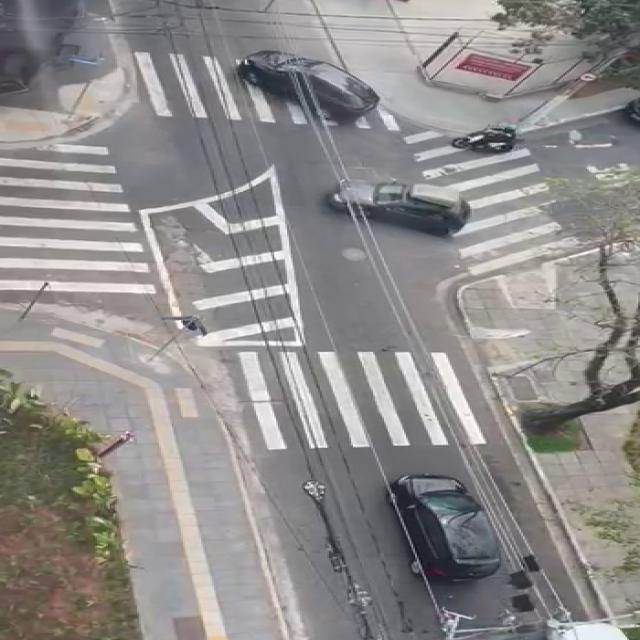car: (377, 466, 506, 592), (223, 38, 390, 122), (331, 170, 486, 238), (546, 619, 628, 640)
motorbike: (439, 120, 527, 154)
